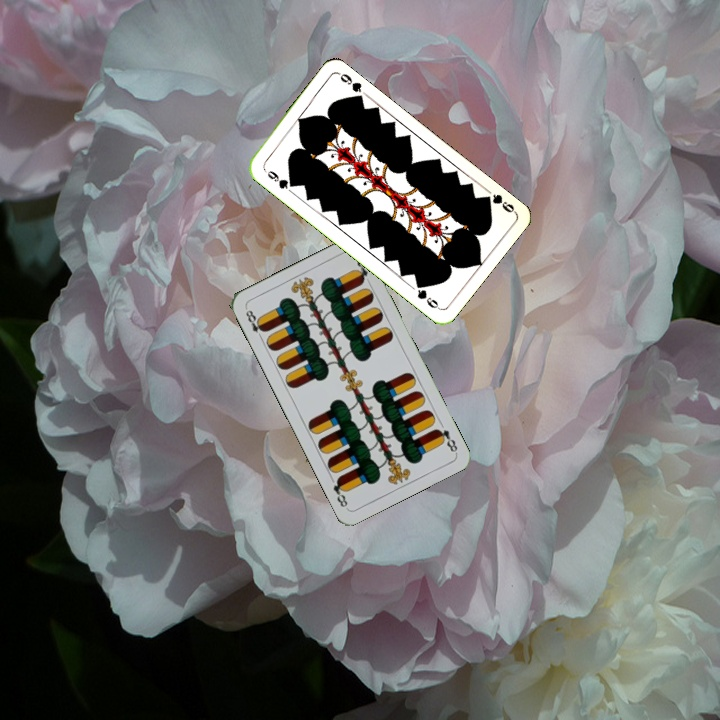E8: (241, 304, 268, 342), (432, 425, 460, 454)
G9: (260, 165, 297, 192), (479, 190, 518, 215)
